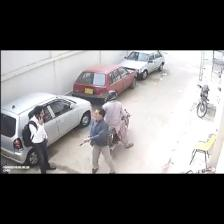person: (84, 109, 115, 173), (29, 106, 55, 173), (103, 91, 133, 148)
